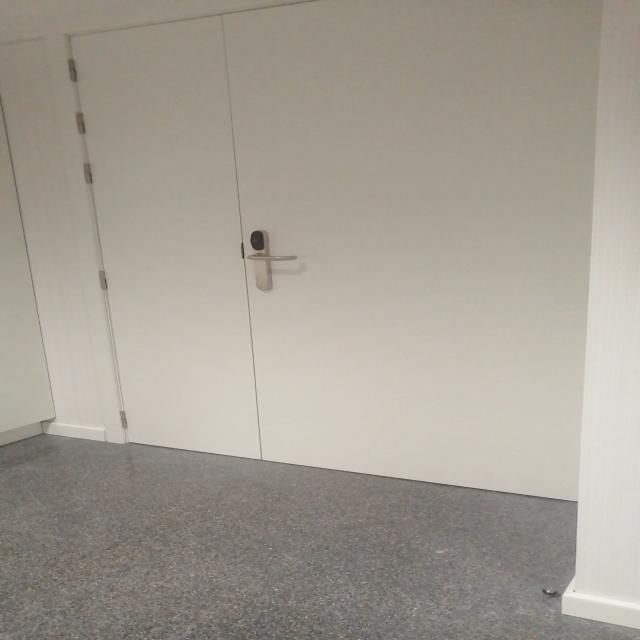door_handle: (239, 252, 299, 263)
